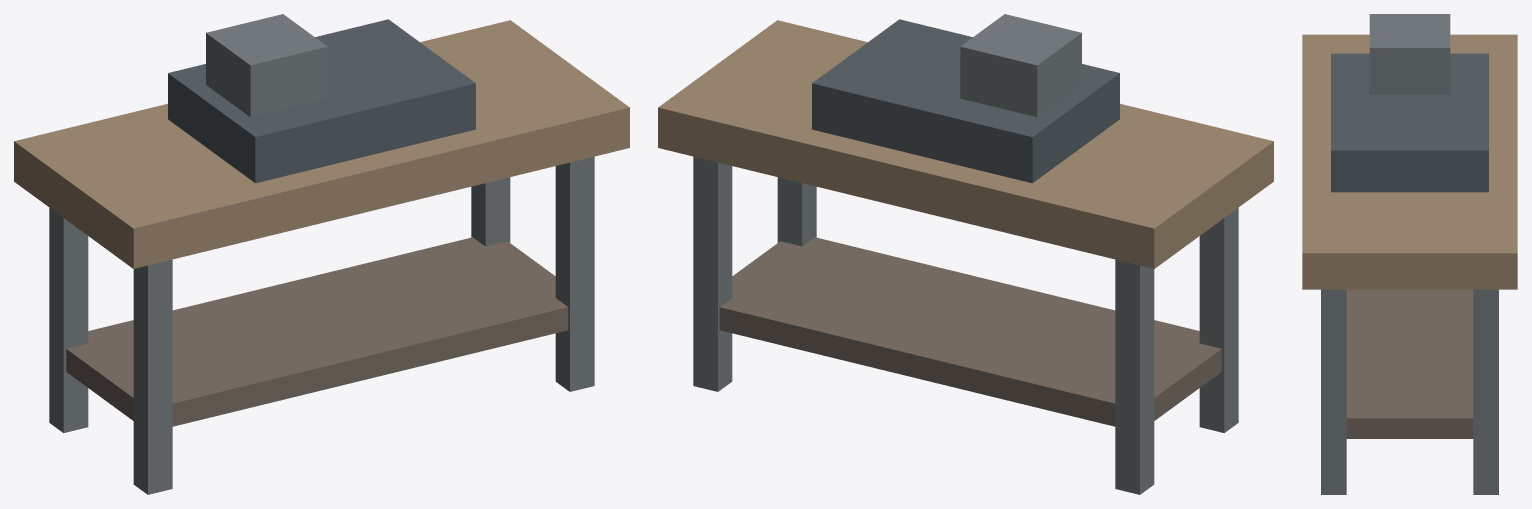
The model's file is cooking_station.glb.
3 views of the same model, side by side, from view 1: azimuth 30°, elevation 25°; view 2: azimuth 150°, elevation 25°; view 3: azimuth 270°, elevation 25° (orthographic). The views are drawn at different scales.
Parts seen in each view (by area): view 1: body; view 2: body; view 3: body.
Boxes of the visible parts, x1,y1,x2,y2 form: body: (14,14,629,494); body: (658,14,1273,494); body: (1302,14,1517,494).
Bounding box in the file's own units: 1.8 × 1.31 × 0.75.
